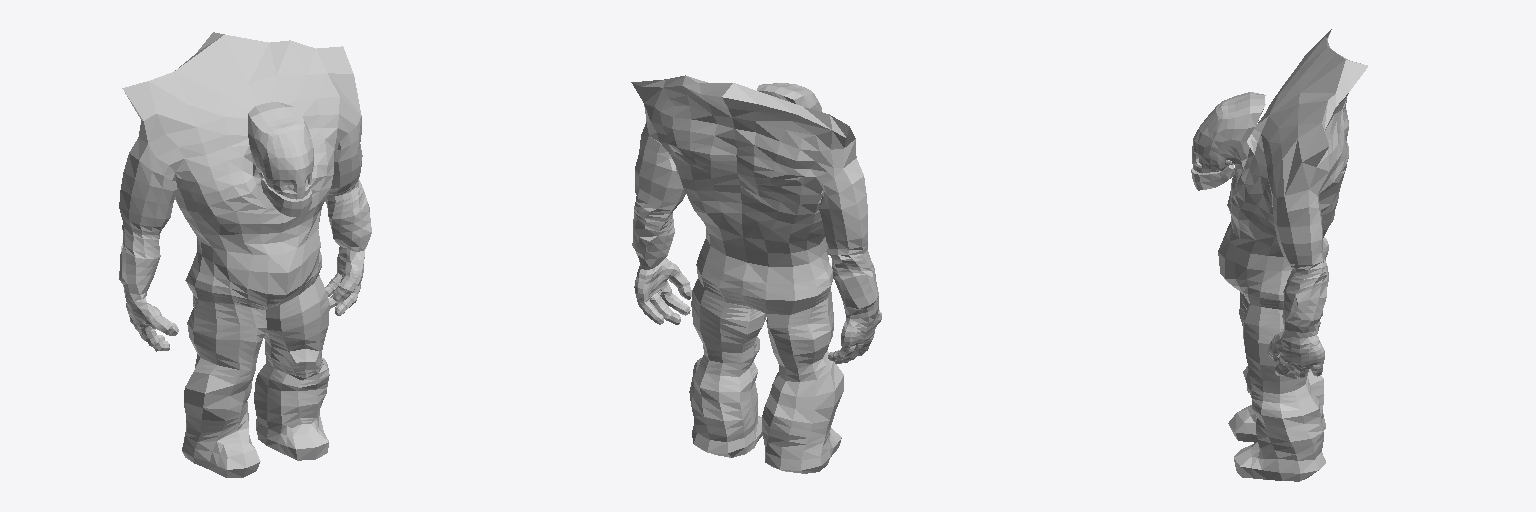
File: golem_000007.obj
3 renders of one model, left to right at view 1: azimuth 30°, elevation 25°; view 2: azimuth 150°, elevation 25°; view 3: azimuth 270°, elevation 25°, orthographic.
Parts seen in each view (by area): view 1: golem; view 2: golem; view 3: golem.
Part boxes in pixels (left/top/right/bottom): golem: left=119, top=32, right=371, bottom=477; golem: left=631, top=75, right=881, bottom=473; golem: left=1191, top=29, right=1367, bottom=481.
Bounding box in the file's own units: 7.35 × 11.29 × 4.62.